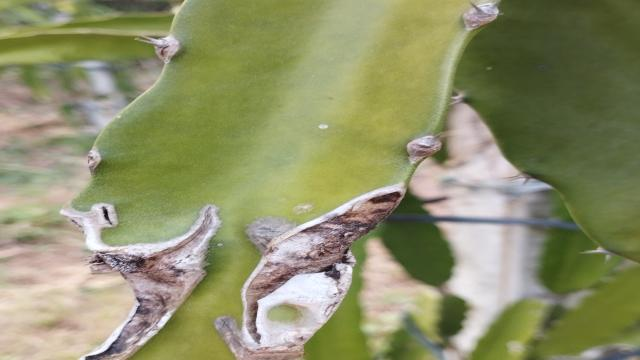stemcanker: (301, 110, 353, 147)
